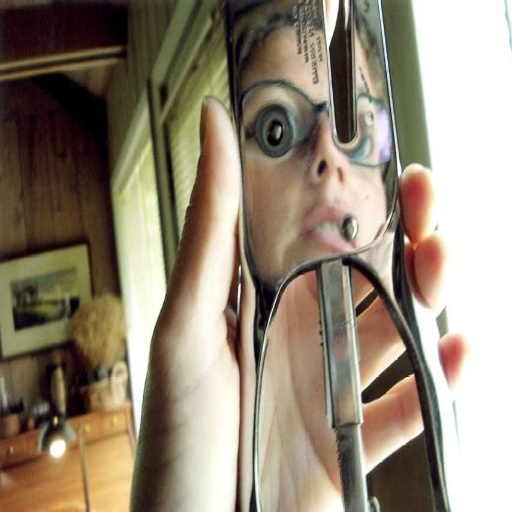hand: (116, 90, 257, 512)
